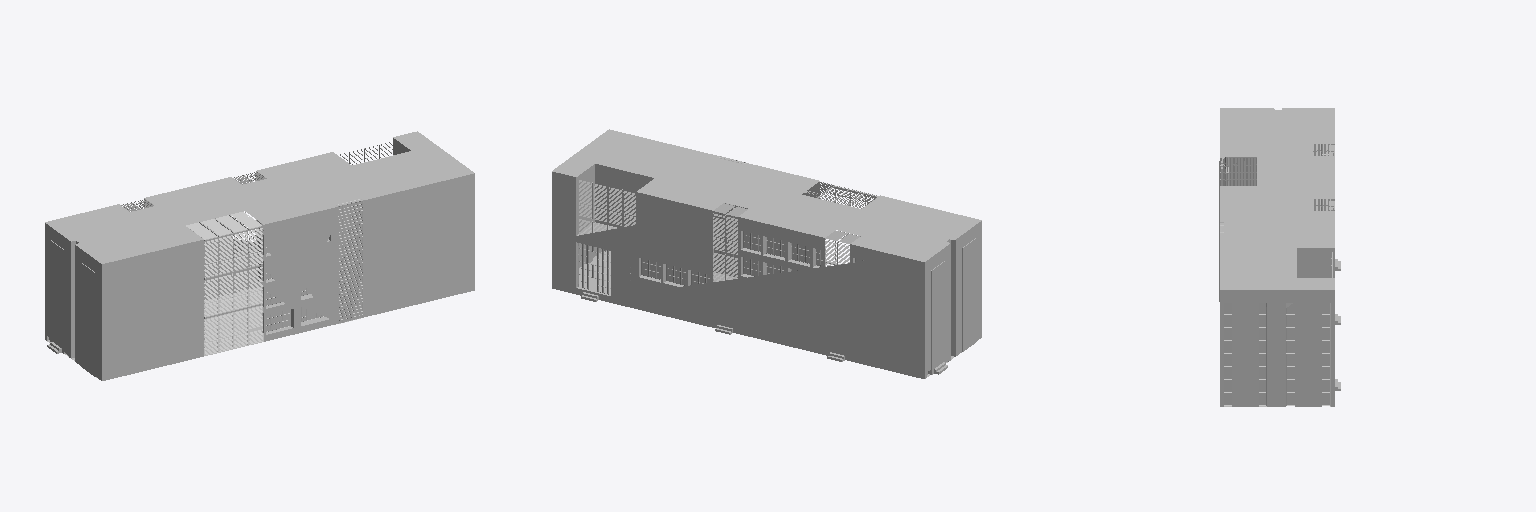
File: BuildG2.obj
The picture shows the model from 3 angles: view 1: azimuth 30°, elevation 25°; view 2: azimuth 150°, elevation 25°; view 3: azimuth 270°, elevation 25°; orthographic projection.
Visible parts, largest first — view 1: Cube; view 2: Cube; view 3: Cube.
Part boxes in pixels (x1,y1,x2,y2): Cube: (45,131,474,380); Cube: (552,129,981,378); Cube: (1219,108,1340,406).
Bounding box in the file's own units: 153 × 45.25 × 42.13.